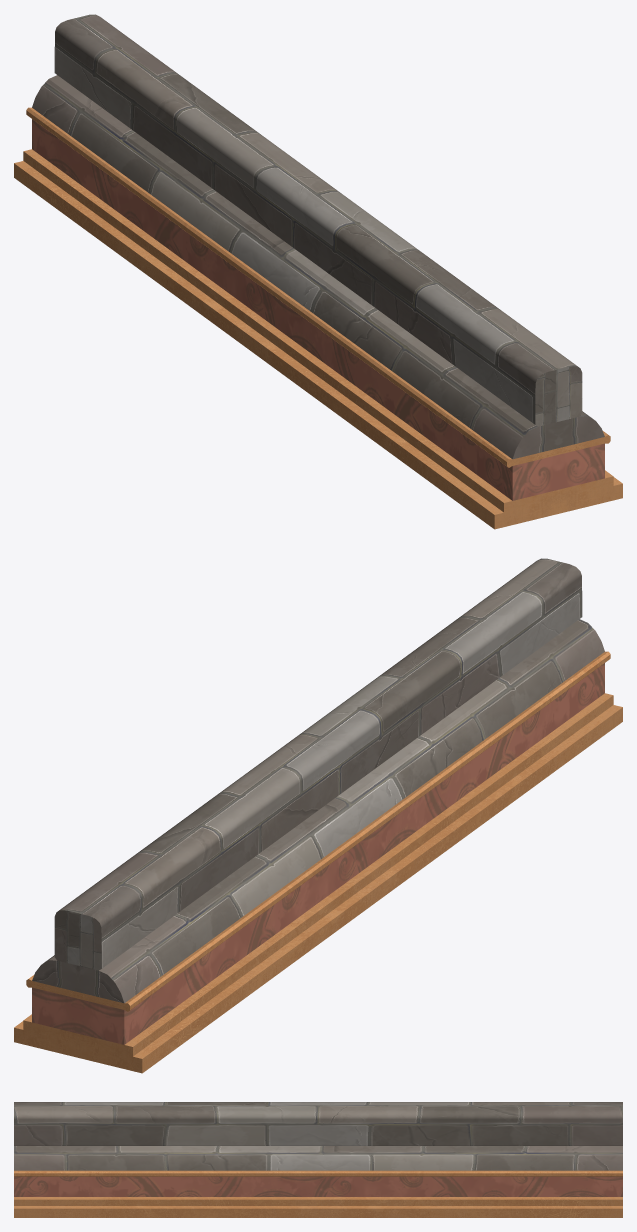
The model's file is rail_standard_complete.fbx.
3 renders of one model, top to bottom at view 1: azimuth 30°, elevation 25°; view 2: azimuth 150°, elevation 25°; view 3: azimuth 270°, elevation 25°, orthographic. The views are drawn at different scales.
Parts seen in each view (by area): view 1: rail_top, rail_mid, rail_bot, rail_trim, rail_round; view 2: rail_top, rail_mid, rail_bot, rail_trim, rail_round; view 3: rail_top, rail_mid, rail_trim, rail_bot, rail_round.
Boxes of the visible parts, x1=… form: rail_top: x1=54, y1=14, x2=582, y2=426; rail_mid: x1=32, y1=75, x2=604, y2=459; rail_bot: x1=14, y1=149, x2=622, y2=529; rail_trim: x1=32, y1=119, x2=604, y2=500; rail_round: x1=26, y1=107, x2=610, y2=467; rail_top: x1=54, y1=558, x2=582, y2=970; rail_mid: x1=32, y1=619, x2=604, y2=1003; rail_bot: x1=14, y1=693, x2=622, y2=1073; rail_trim: x1=32, y1=663, x2=604, y2=1044; rail_round: x1=26, y1=651, x2=610, y2=1011; rail_top: x1=14, y1=1102, x2=622, y2=1145; rail_mid: x1=14, y1=1146, x2=622, y2=1170; rail_trim: x1=14, y1=1176, x2=622, y2=1196; rail_bot: x1=14, y1=1197, x2=622, y2=1217; rail_round: x1=14, y1=1170, x2=622, y2=1176.
Size of the model in its own units: 0.7712 by 0.8297 by 5.
